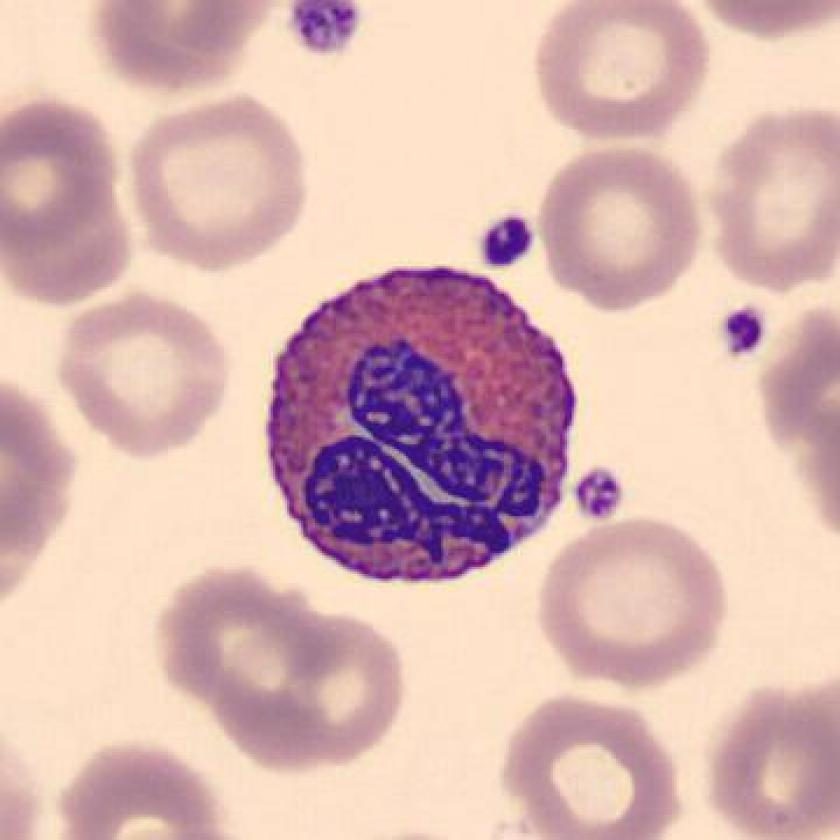eosinophil: (253, 249, 589, 598)
